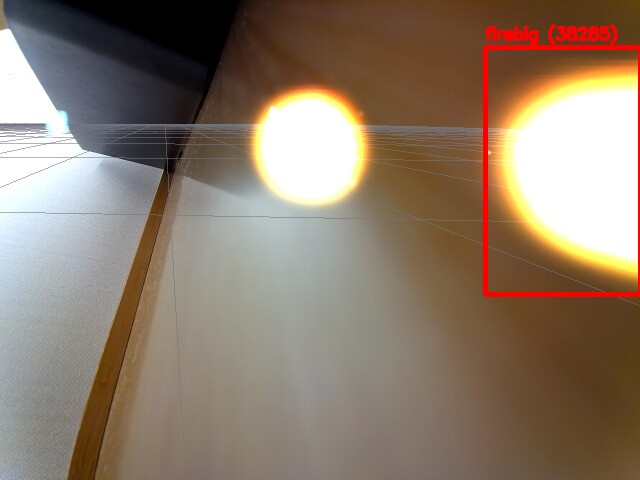firebig: (485, 47, 640, 294)
